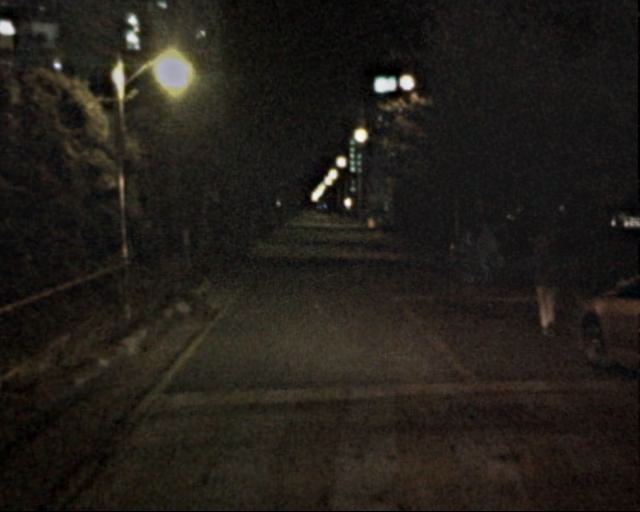person: (517, 222, 572, 338), (476, 221, 512, 298), (454, 227, 490, 302)
